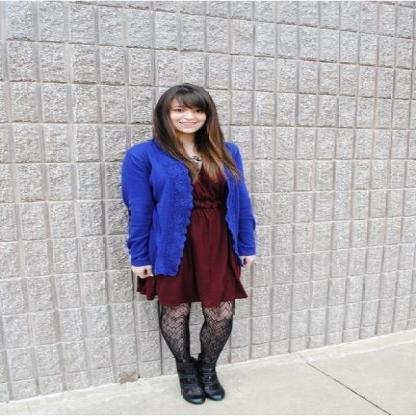dress: (136, 175, 246, 307)
jacket: (119, 141, 254, 274)
shoe: (174, 346, 224, 404)
